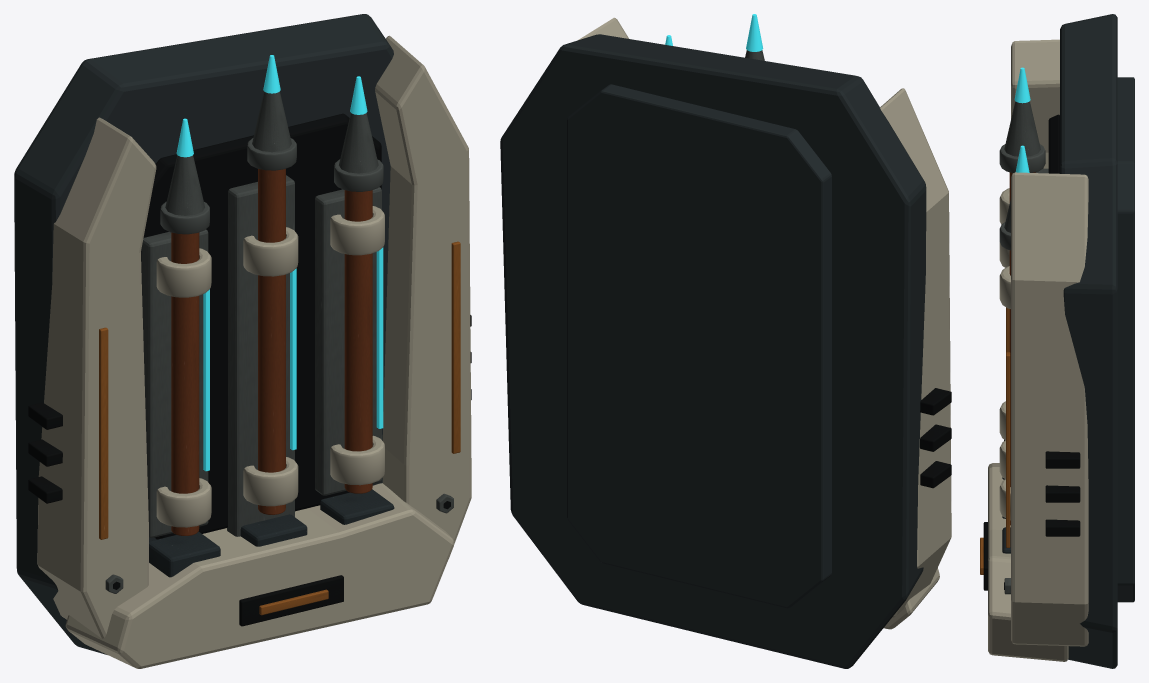
The model's file is javelin.glb.
3 views of the same model, side by side, from view 1: azimuth 30°, elevation 25°; view 2: azimuth 150°, elevation 25°; view 3: azimuth 270°, elevation 25° (orthographic). The views are drawn at different scales.
Visible parts, largest first — view 1: ivory, steel, edge, rubber, copper, cyan, paint; view 2: steel, ivory, rubber; view 3: ivory, steel, rubber, edge, paint, cyan, copper.
Part boxes in pixels (<box>): ivory: <box>37,35,471,668</box>; steel: <box>14,14,394,654</box>; edge: <box>105,91,453,593</box>; rubber: <box>28,113,471,626</box>; copper: <box>171,169,372,535</box>; cyan: <box>176,55,383,471</box>; paint: <box>99,241,460,615</box>; steel: <box>500,34,926,668</box>; ivory: <box>578,17,951,629</box>; rubber: <box>920,388,951,488</box>; ivory: <box>988,39,1088,661</box>; steel: <box>1002,14,1134,668</box>; rubber: <box>983,114,1080,590</box>; edge: <box>999,101,1048,594</box>; paint: <box>980,307,1010,574</box>; cyan: <box>1014,67,1030,172</box>; copper: <box>1009,172,1035,525</box>.
Bounding box in the file's own units: 0.157 × 0.2087 × 0.0538.
7 materials, 6 textured.
